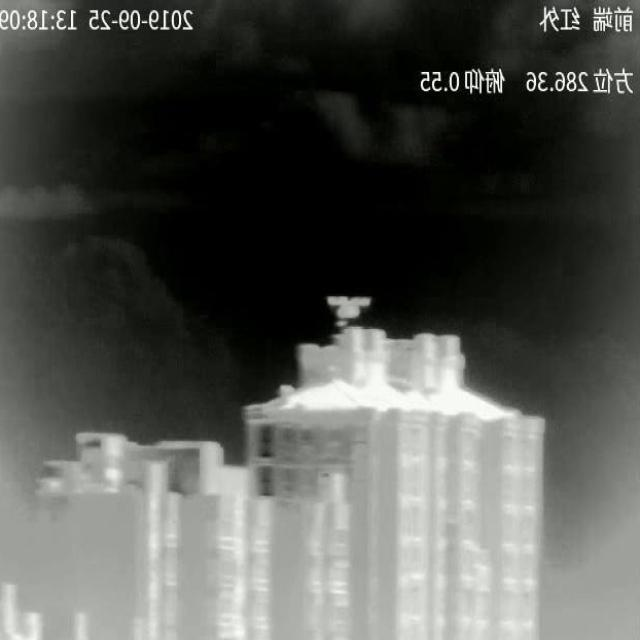drone: (326, 296, 372, 328)
